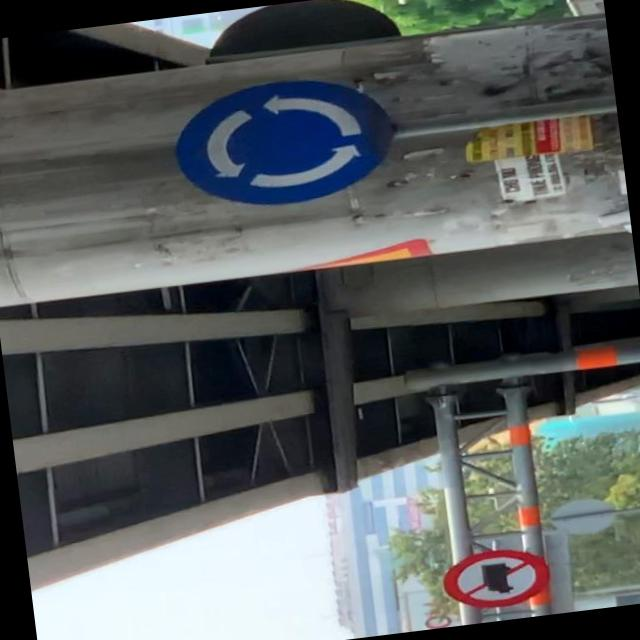R-303: (167, 68, 392, 214)
